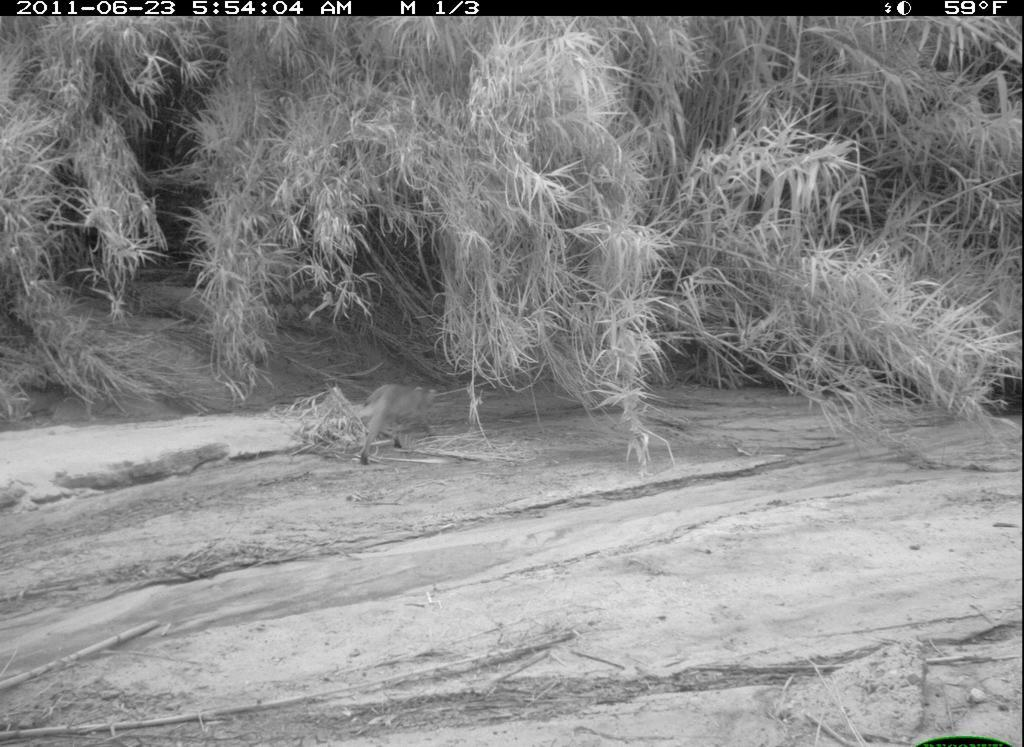bobcat: (345, 369, 455, 470)
